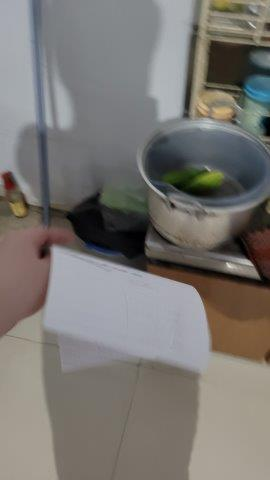kertas: (42, 244, 215, 383)
